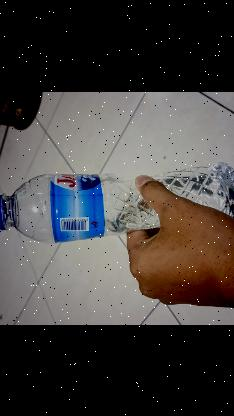Plastic Bottle: (0, 161, 234, 242)
